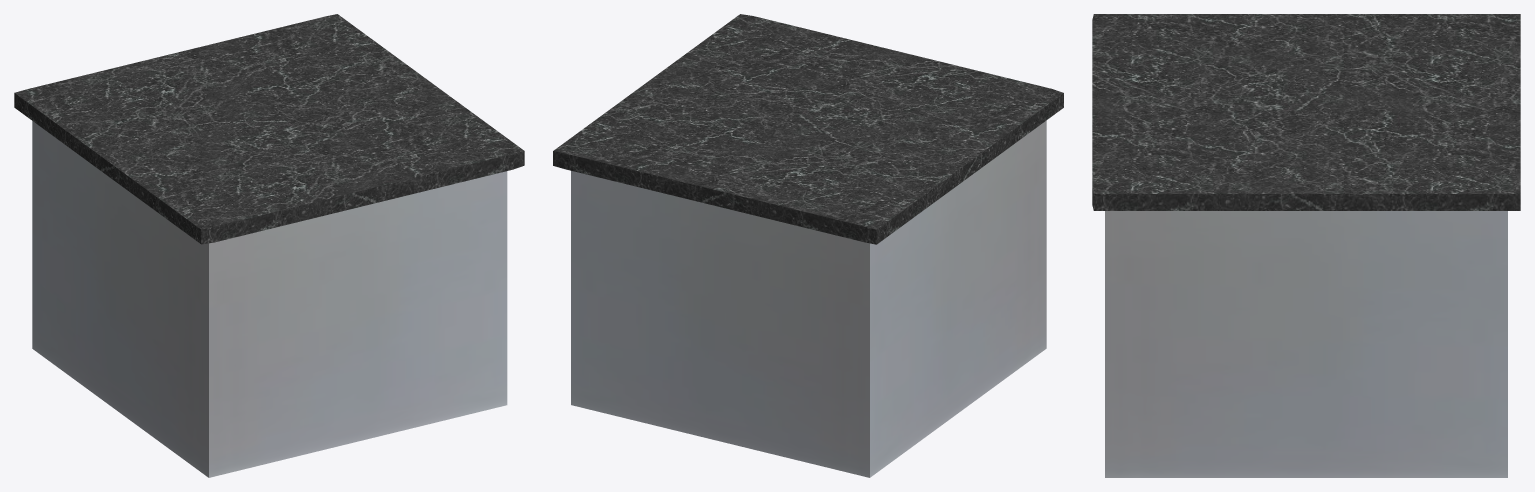
File: Kitchen_01-col.glb
3 views of the same model, side by side, from view 1: azimuth 30°, elevation 25°; view 2: azimuth 150°, elevation 25°; view 3: azimuth 270°, elevation 25° (orthographic). The views are drawn at different scales.
Visible parts, largest first — view 1: Kitchen_01-col; view 2: Kitchen_01-col; view 3: Kitchen_01-col.
Part boxes in pixels (x1,y1,x2,y2): Kitchen_01-col: (14,14,524,477); Kitchen_01-col: (553,14,1063,477); Kitchen_01-col: (1092,14,1520,477).
Bounding box in the file's own units: 2.82 × 2.13 × 2.84.
2 materials, 2 textured.
